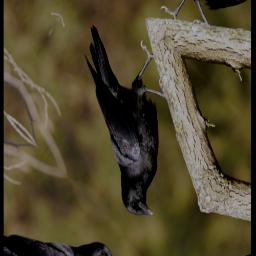Crow: (37, 0, 217, 233)
